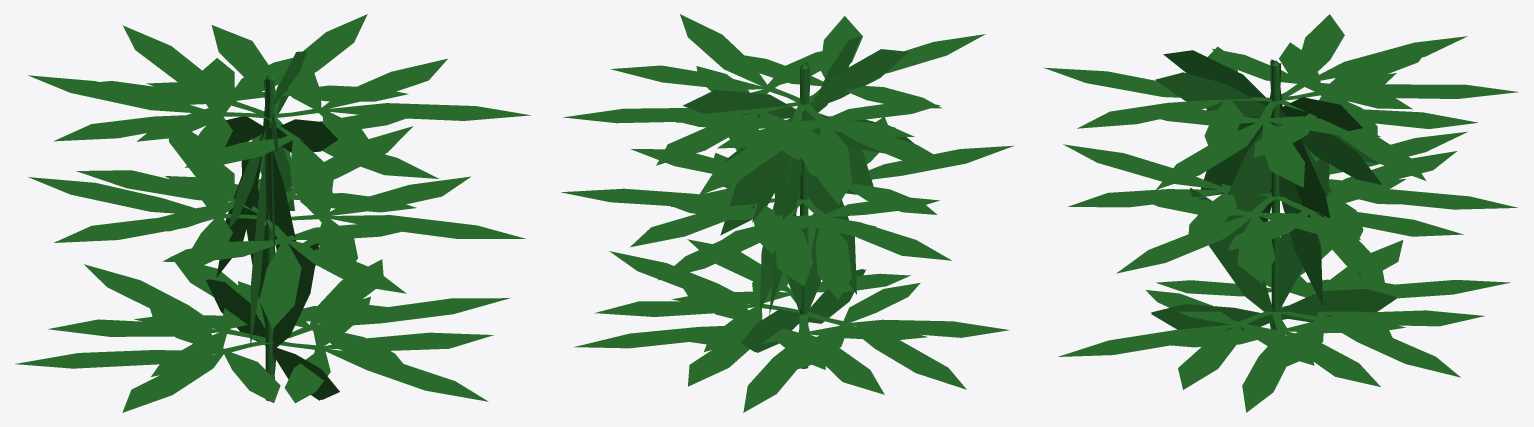
Rendered from Hemp.fbx.
3 renders of one model, left to right at view 1: azimuth 30°, elevation 25°; view 2: azimuth 150°, elevation 25°; view 3: azimuth 270°, elevation 25°, orthographic. The views are drawn at different scales.
Parts seen in each view (by area): view 1: Cylinder|Plane|Dupli|1, Cylinder|Plane|Dupli|3, Cylinder|Plane|Dupli|, Cylinder|Plane|Dupli|2, Cylinder|Plane|Dupli|4, Cylinder|Plane|Dupli|14, Cylinder|Plane|Dupli|9, Cylinder|Plane|Dupli|12, Cylinder|Plane|Dupli|5, Cylinder|Plane|Dupli|6, Cylinder|Plane|Dupli|13, Cylinder|Plane|Dupli|11 (+8 smaller); view 2: Cylinder|Plane|Dupli|4, Cylinder|Plane|Dupli|3, Cylinder|Plane|Dupli|6, Cylinder|Plane|Dupli|2, Cylinder|Plane|Dupli|8, Cylinder|Plane|Dupli|19, Cylinder|Plane|Dupli|5, Cylinder|Plane|Dupli|12, Cylinder|Plane|Dupli|9, Cylinder|Plane|Dupli|7, Cylinder|Plane|Dupli|, Cylinder|Plane|Dupli|10 (+9 smaller); view 3: Cylinder|Plane|Dupli|15, Cylinder|Plane|Dupli|17, Cylinder|Plane|Dupli|14, Cylinder|Plane|Dupli|3, Cylinder|Plane|Dupli|13, Cylinder|Plane|Dupli|12, Cylinder|Plane|Dupli|10, Cylinder|Plane|Dupli|9, Cylinder|Plane|Dupli|, Cylinder|Plane|Dupli|6, Cylinder|Plane|Dupli|11, Cylinder|Plane|Dupli|1 (+9 smaller).
Boxes of the visible parts, x1,y1,x2,y2 form: Cylinder|Plane|Dupli|1: [162, 220, 413, 328]; Cylinder|Plane|Dupli|3: [28, 58, 275, 168]; Cylinder|Plane|Dupli|: [185, 112, 438, 224]; Cylinder|Plane|Dupli|2: [15, 308, 280, 412]; Cylinder|Plane|Dupli|4: [28, 164, 266, 270]; Cylinder|Plane|Dupli|14: [264, 296, 493, 403]; Cylinder|Plane|Dupli|9: [146, 14, 408, 114]; Cylinder|Plane|Dupli|12: [267, 58, 530, 161]; Cylinder|Plane|Dupli|5: [48, 264, 271, 376]; Cylinder|Plane|Dupli|6: [77, 25, 292, 141]; Cylinder|Plane|Dupli|13: [266, 176, 525, 271]; Cylinder|Plane|Dupli|11: [238, 259, 510, 366]; Cylinder|Plane|Dupli|4: [718, 196, 951, 299]; Cylinder|Plane|Dupli|3: [717, 101, 951, 204]; Cylinder|Plane|Dupli|6: [672, 104, 914, 195]; Cylinder|Plane|Dupli|2: [798, 283, 1009, 389]; Cylinder|Plane|Dupli|8: [574, 285, 825, 386]; Cylinder|Plane|Dupli|19: [683, 68, 914, 294]; Cylinder|Plane|Dupli|5: [690, 311, 927, 412]; Cylinder|Plane|Dupli|12: [610, 14, 823, 122]; Cylinder|Plane|Dupli|9: [563, 66, 809, 165]; Cylinder|Plane|Dupli|7: [658, 197, 890, 286]; Cylinder|Plane|Dupli|: [733, 16, 985, 108]; Cylinder|Plane|Dupli|10: [561, 153, 787, 253]; Cylinder|Plane|Dupli|15: [1151, 158, 1396, 330]; Cylinder|Plane|Dupli|17: [1163, 50, 1382, 305]; Cylinder|Plane|Dupli|14: [1058, 290, 1314, 389]; Cylinder|Plane|Dupli|3: [1212, 14, 1467, 109]; Cylinder|Plane|Dupli|13: [1116, 194, 1361, 283]; Cylinder|Plane|Dupli|12: [1142, 100, 1380, 189]; Cylinder|Plane|Dupli|10: [1227, 179, 1463, 287]; Cylinder|Plane|Dupli|9: [1254, 73, 1477, 180]; Cylinder|Plane|Dupli|: [1044, 46, 1279, 150]; Cylinder|Plane|Dupli|6: [1279, 42, 1518, 139]; Cylinder|Plane|Dupli|11: [1171, 311, 1406, 412]; Cylinder|Plane|Dupli|1: [1063, 144, 1271, 239].
Size of the model in its own units: 67.83 by 47.99 by 67.98.
